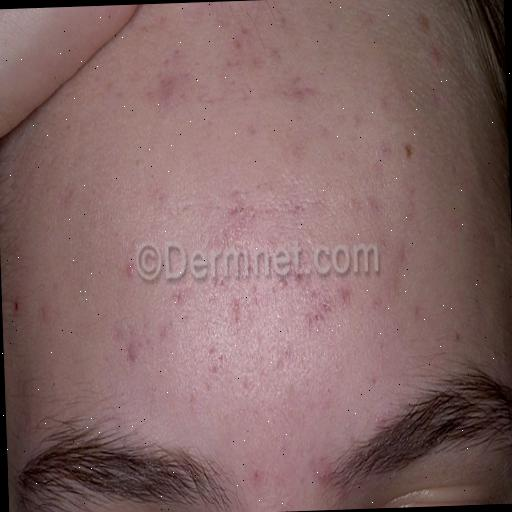Skin_Lesion: (217, 183, 323, 241), (251, 447, 332, 498), (214, 278, 260, 338), (154, 48, 192, 120), (11, 282, 56, 338), (301, 292, 354, 332), (226, 24, 260, 83), (278, 69, 318, 119), (118, 316, 146, 373), (240, 106, 265, 148), (369, 180, 385, 230)
